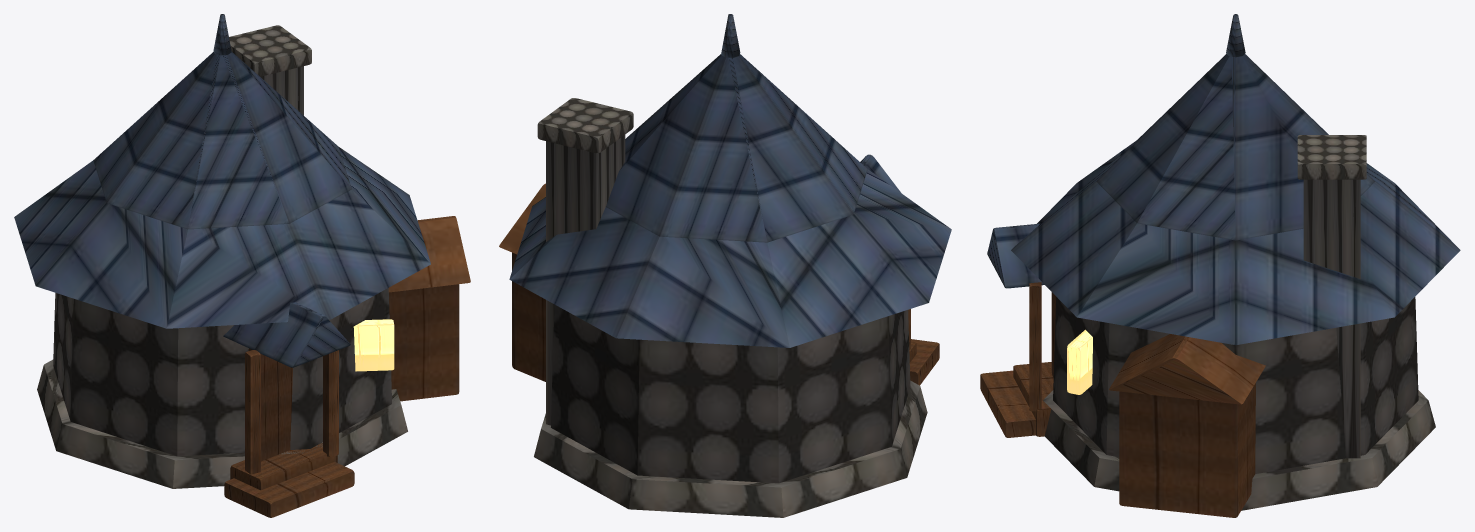
Rendered from env_hagrid_hut.glb.
The picture shows the model from 3 angles, left to right: view 1: azimuth 30°, elevation 25°; view 2: azimuth 150°, elevation 25°; view 3: azimuth 270°, elevation 25°; orthographic projection. The views are drawn at different scales.
Parts seen in each view (by area): view 1: HH_RoofFlare, HH_Walls, HH_RoofPeak, HH_Plinth, HH_Shed, HH_PorchRoof, HH_Step1, HH_ShedRoof, HH_Door, HH_ChimCap, HH_Step2, HH_Win1 (+3 smaller); view 2: HH_Walls, HH_RoofFlare, HH_RoofPeak, HH_Plinth, HH_Chimney, HH_ChimCap, HH_Shed, HH_Step1, HH_ShedRoof, HH_Finial; view 3: HH_RoofFlare, HH_RoofPeak, HH_Walls, HH_Shed, HH_Plinth, HH_Chimney, HH_ShedRoof, HH_ChimCap, HH_Step1, HH_PorchRoof, HH_PPost_0.12, HH_Win1 (+2 smaller).
Boxes of the visible parts, x1=… form: HH_RoofFlare: x1=14, y1=147, x2=430, y2=328; HH_Walls: x1=53, y1=288, x2=391, y2=456; HH_RoofPeak: x1=93, y1=51, x2=351, y2=229; HH_Plinth: x1=37, y1=359, x2=407, y2=488; HH_Shed: x1=389, y1=284, x2=459, y2=401; HH_PorchRoof: x1=223, y1=302, x2=350, y2=367; HH_Step1: x1=224, y1=462, x2=354, y2=517; HH_ShedRoof: x1=388, y1=216, x2=470, y2=292; HH_Door: x1=248, y1=348, x2=292, y2=460; HH_ChimCap: x1=229, y1=25, x2=311, y2=76; HH_Step2: x1=230, y1=443, x2=337, y2=490; HH_Win1: x1=353, y1=319, x2=394, y2=371; HH_Walls: x1=551, y1=304, x2=910, y2=483; HH_RoofFlare: x1=509, y1=169, x2=951, y2=347; HH_RoofPeak: x1=606, y1=54, x2=867, y2=242; HH_Plinth: x1=534, y1=380, x2=927, y2=517; HH_Chimney: x1=546, y1=135, x2=625, y2=425; HH_ChimCap: x1=537, y1=98, x2=633, y2=153; HH_Shed: x1=512, y1=252, x2=545, y2=381; HH_Step1: x1=909, y1=339, x2=939, y2=385; HH_ShedRoof: x1=499, y1=183, x2=545, y2=254; HH_Finial: x1=721, y1=14, x2=740, y2=57; HH_RoofFlare: x1=1011, y1=140, x2=1460, y2=345; HH_RoofPeak: x1=1096, y1=54, x2=1374, y2=240; HH_Walls: x1=1053, y1=297, x2=1418, y2=473; HH_Shed: x1=1119, y1=383, x2=1255, y2=517; HH_Plinth: x1=1043, y1=390, x2=1435, y2=510; HH_Chimney: x1=1303, y1=179, x2=1360, y2=458; HH_ShedRoof: x1=1109, y1=334, x2=1265, y2=404; HH_ChimCap: x1=1297, y1=135, x2=1366, y2=179; HH_Step1: x1=980, y1=370, x2=1035, y2=437; HH_PorchRoof: x1=987, y1=223, x2=1044, y2=288; HH_PPost_0.12: x1=1029, y1=282, x2=1041, y2=411; HH_Win1: x1=1067, y1=329, x2=1092, y2=394.
Bounding box in the file's own units: 3.92 × 3.68 × 3.89.
4 materials, 4 textured.
